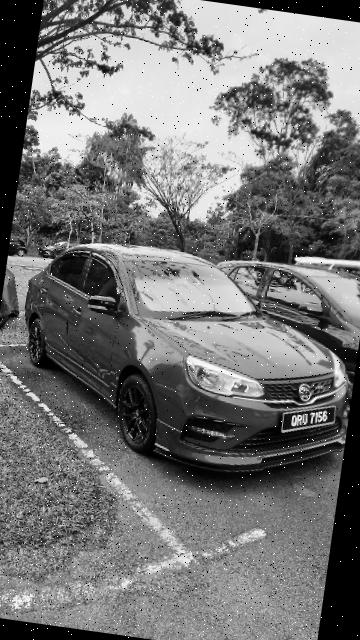License_Plate: (282, 399, 343, 443)
car: (3, 230, 360, 498)
